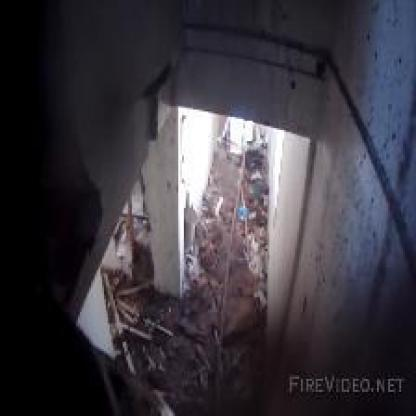other: (212, 102, 290, 219)
